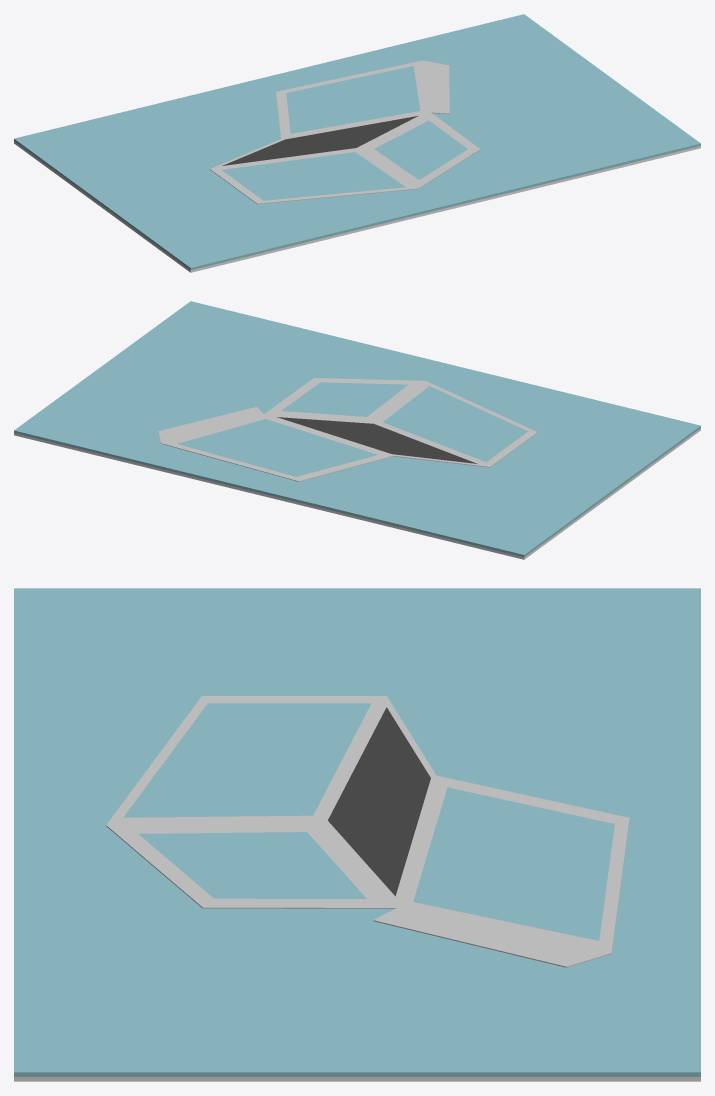
The model's file is Community Chest.fbx.
3 renders of one model, top to bottom at view 1: azimuth 30°, elevation 25°; view 2: azimuth 150°, elevation 25°; view 3: azimuth 270°, elevation 25°, orthographic. The views are drawn at different scales.
Visible parts, largest first — view 1: Community Chest; view 2: Community Chest; view 3: Community Chest.
Boxes of the visible parts, <box> form: Community Chest: <box>14,14,700,272</box>; Community Chest: <box>14,301,700,559</box>; Community Chest: <box>14,588,700,1081</box>.
Size of the model in its own units: 101 by 60.88 by 1.07.
